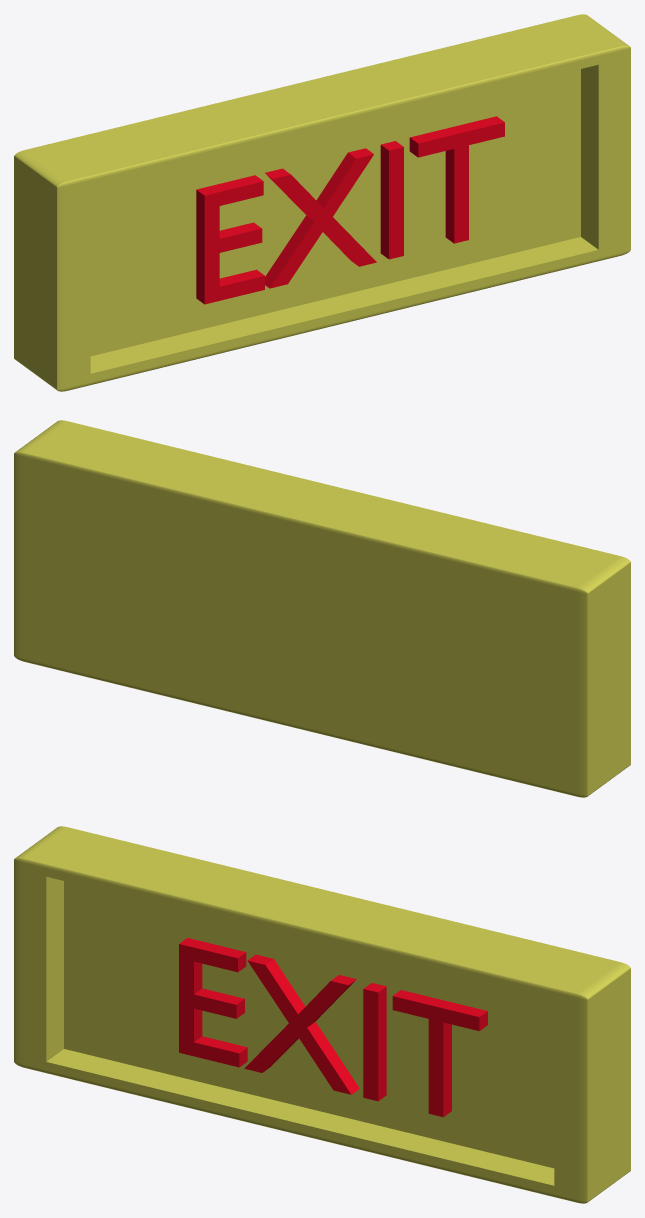
The model's file is exit_sign.fbx.
3 views of the same model, one above another, from view 1: azimuth 30°, elevation 25°; view 2: azimuth 150°, elevation 25°; view 3: azimuth 330°, elevation 25° (orthographic).
Visible parts, largest first — view 1: Cube.010; view 2: Cube.010; view 3: Cube.010.
Part boxes in pixels (box(x1,y1,x2,y2)): Cube.010: box(14, 14, 630, 391); Cube.010: box(14, 420, 630, 797); Cube.010: box(14, 826, 630, 1203).
Size of the model in its own units: 5.74 by 2 by 0.769.
